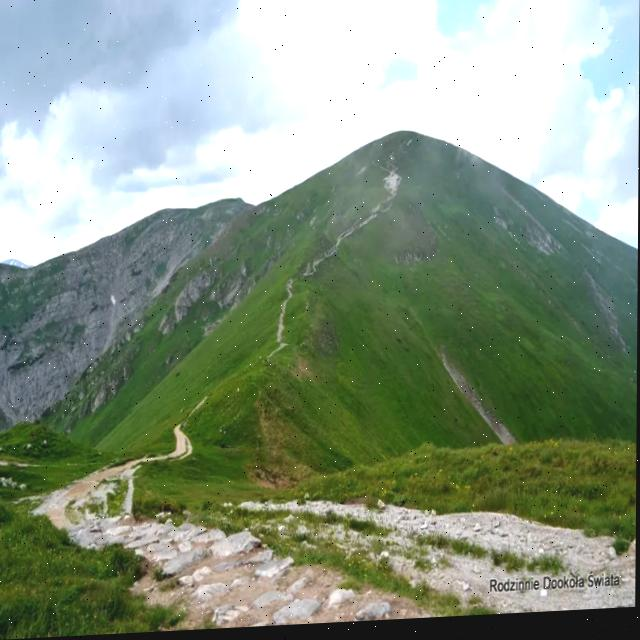Krzesanica: (216, 167, 260, 225)
Malolaczniak: (320, 61, 483, 199)
